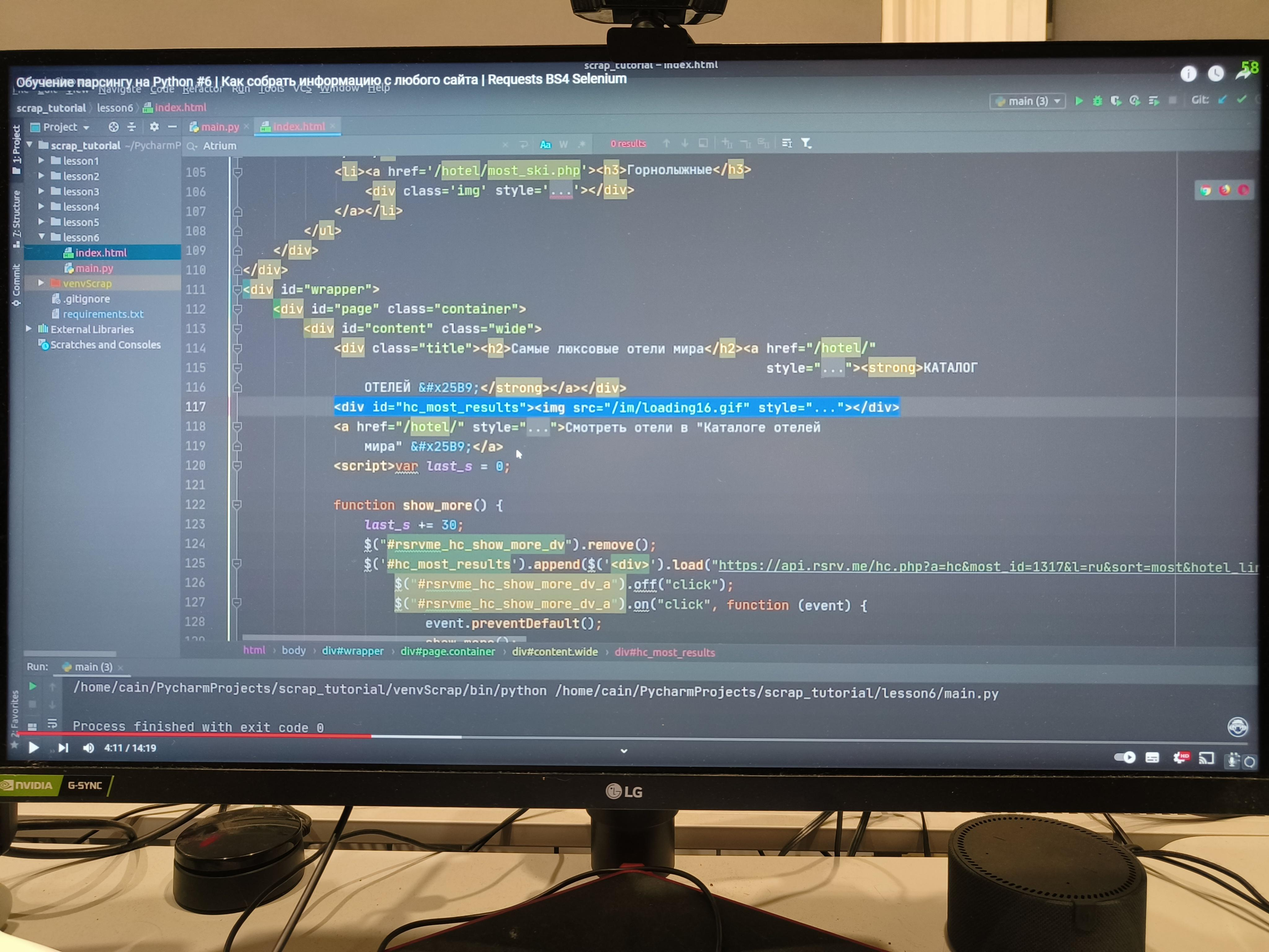monitor: (0, 40, 1269, 823)
